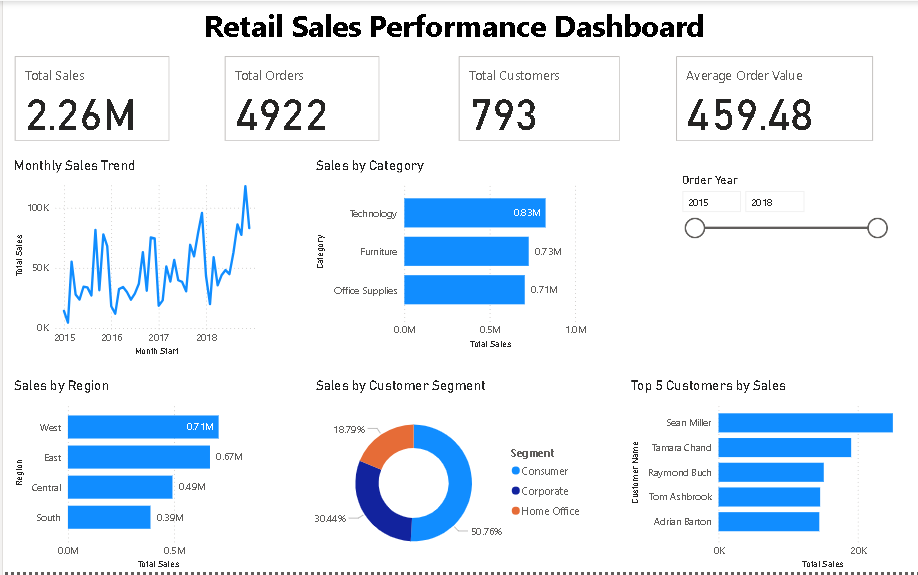

The page's visual inventory and layout, read from the dashboard file:
{"tool":"powerbi","page":{"name":"Page 1","canvas":[1280,720],"ordinal":0},"visuals":[{"type":"cardVisual","fields":{"Data":["Sales.Total Customers"]},"box":[568.8,64.3,213.5,117.2],"z":2},{"type":"cardVisual","fields":{"Data":["Sales.Average Order Value"]},"box":[842.8,64.3,258.9,117.2],"z":3},{"type":"lineChart","title":"Monthly Sales Trend","fields":{"Y":["Sales.Total Sales"],"Category":["Sales.Month Start"]},"box":[9.4,196.5,317.5,255.1],"z":4},{"type":"clusteredBarChart","title":"Sales by Category","fields":{"Category":["Sales.Category"],"Y":["Sales.Total Sales"]},"box":[389.3,196.5,351.5,245.7],"z":5},{"type":"clusteredBarChart","title":"Sales by Region","fields":{"Y":["Sales.Total Sales"],"Category":["Sales.Region"]},"box":[9.4,474.3,317.5,245.7],"z":6},{"type":"donutChart","title":"Sales by Customer Segment","fields":{"Category":["Sales.Segment"],"Y":["Sales.Total Sales"]},"box":[389.3,474.3,351.5,245.7],"z":7},{"type":"slicer","fields":{"Values":["Sales.Order Year"]},"box":[842.8,211.7,279.7,226.8],"z":8},{"type":"clusteredBarChart","title":"Top 5 Customers by Sales","fields":{"Category":["Sales.Customer Name"],"Y":["Sales.Total Sales"]},"box":[786.1,474.3,393.1,245.7],"z":9},{"type":"cardVisual","fields":{"Data":["Sales.Total Sales"]},"box":[9.4,64.3,206,117.2],"z":10},{"type":"textbox","box":[236.2,0,665.2,64.3],"z":11},{"type":"cardVisual","fields":{"Data":["Sales.Total Orders"]},"box":[274,64.3,206,117.2],"z":12}]}

Visuals, with their boxes on the page's 1280x720 design canvas (x1, y1, x2, y2). These are canvas units, not pixel positions in the 918x575 screenshot, which may show the page scaled, cropped or inside an application window:
cardVisual - Sales.Total Customers: box=[569, 64, 782, 182]
cardVisual - Sales.Average Order Value: box=[843, 64, 1102, 182]
"Monthly Sales Trend" lineChart: box=[9, 196, 327, 452]
"Sales by Category" clusteredBarChart: box=[389, 196, 741, 442]
"Sales by Region" clusteredBarChart: box=[9, 474, 327, 720]
"Sales by Customer Segment" donutChart: box=[389, 474, 741, 720]
slicer - Sales.Order Year: box=[843, 212, 1122, 438]
"Top 5 Customers by Sales" clusteredBarChart: box=[786, 474, 1179, 720]
cardVisual - Sales.Total Sales: box=[9, 64, 215, 182]
textbox: box=[236, 0, 901, 64]
cardVisual - Sales.Total Orders: box=[274, 64, 480, 182]
